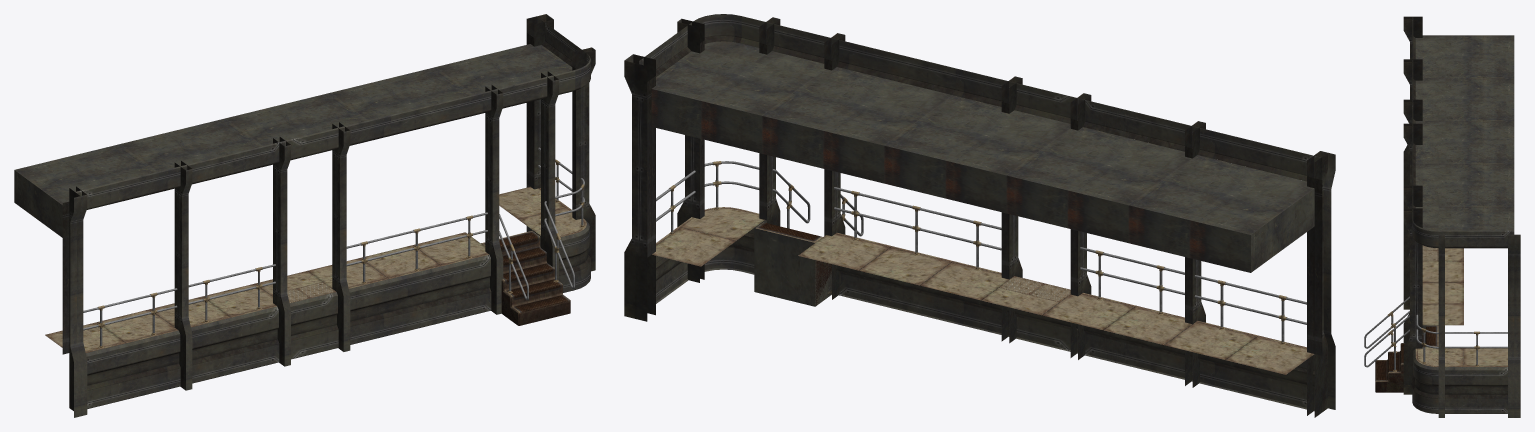
File: 01_02_elevated_platform_pplant.dae
3 renders of one model, left to right at view 1: azimuth 30°, elevation 25°; view 2: azimuth 150°, elevation 25°; view 3: azimuth 270°, elevation 25°, orthographic. The views are drawn at different scales.
Visible parts, largest first — view 1: pplant__2_, pplant_floor__2_, railing; view 2: pplant__2_, pplant_floor__2_, railing; view 3: pplant__2_, pplant_floor__2_, railing.
Boxes of the visible parts, <box> form: pplant__2_: <box>14,14,595,417</box>; pplant_floor__2_: <box>45,186,586,352</box>; railing: <box>83,147,584,348</box>; pplant__2_: <box>624,14,1335,417</box>; pplant_floor__2_: <box>652,207,1314,374</box>; railing: <box>656,161,1306,344</box>; pplant__2_: <box>1403,16,1520,417</box>; pplant_floor__2_: <box>1375,245,1507,392</box>; railing: <box>1364,296,1507,371</box>.
Size of what is drawn, in the model's own units: 20.62 by 8 by 6.19.
